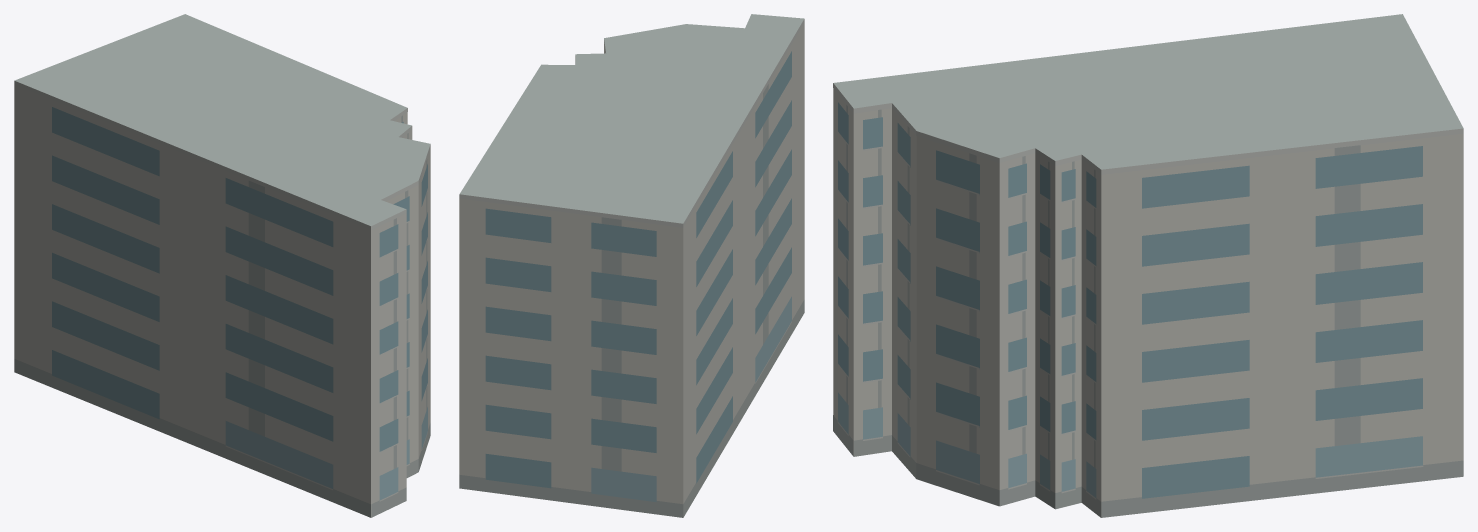
File: survey-upis-32804696.glb
3 renders of one model, left to right at view 1: azimuth 30°, elevation 25°; view 2: azimuth 150°, elevation 25°; view 3: azimuth 270°, elevation 25°, orthographic. The views are drawn at different scales.
Parts seen in each view (by area): view 1: survey-upis-32804696.tmp; view 2: survey-upis-32804696.tmp; view 3: survey-upis-32804696.tmp.
Part boxes in pixels (box(x1,y1,x2,y2)): survey-upis-32804696.tmp: box(14, 14, 430, 517); survey-upis-32804696.tmp: box(459, 14, 804, 517); survey-upis-32804696.tmp: box(833, 14, 1463, 517).
Bounding box in the file's own units: 16.36 × 17.05 × 27.99.
